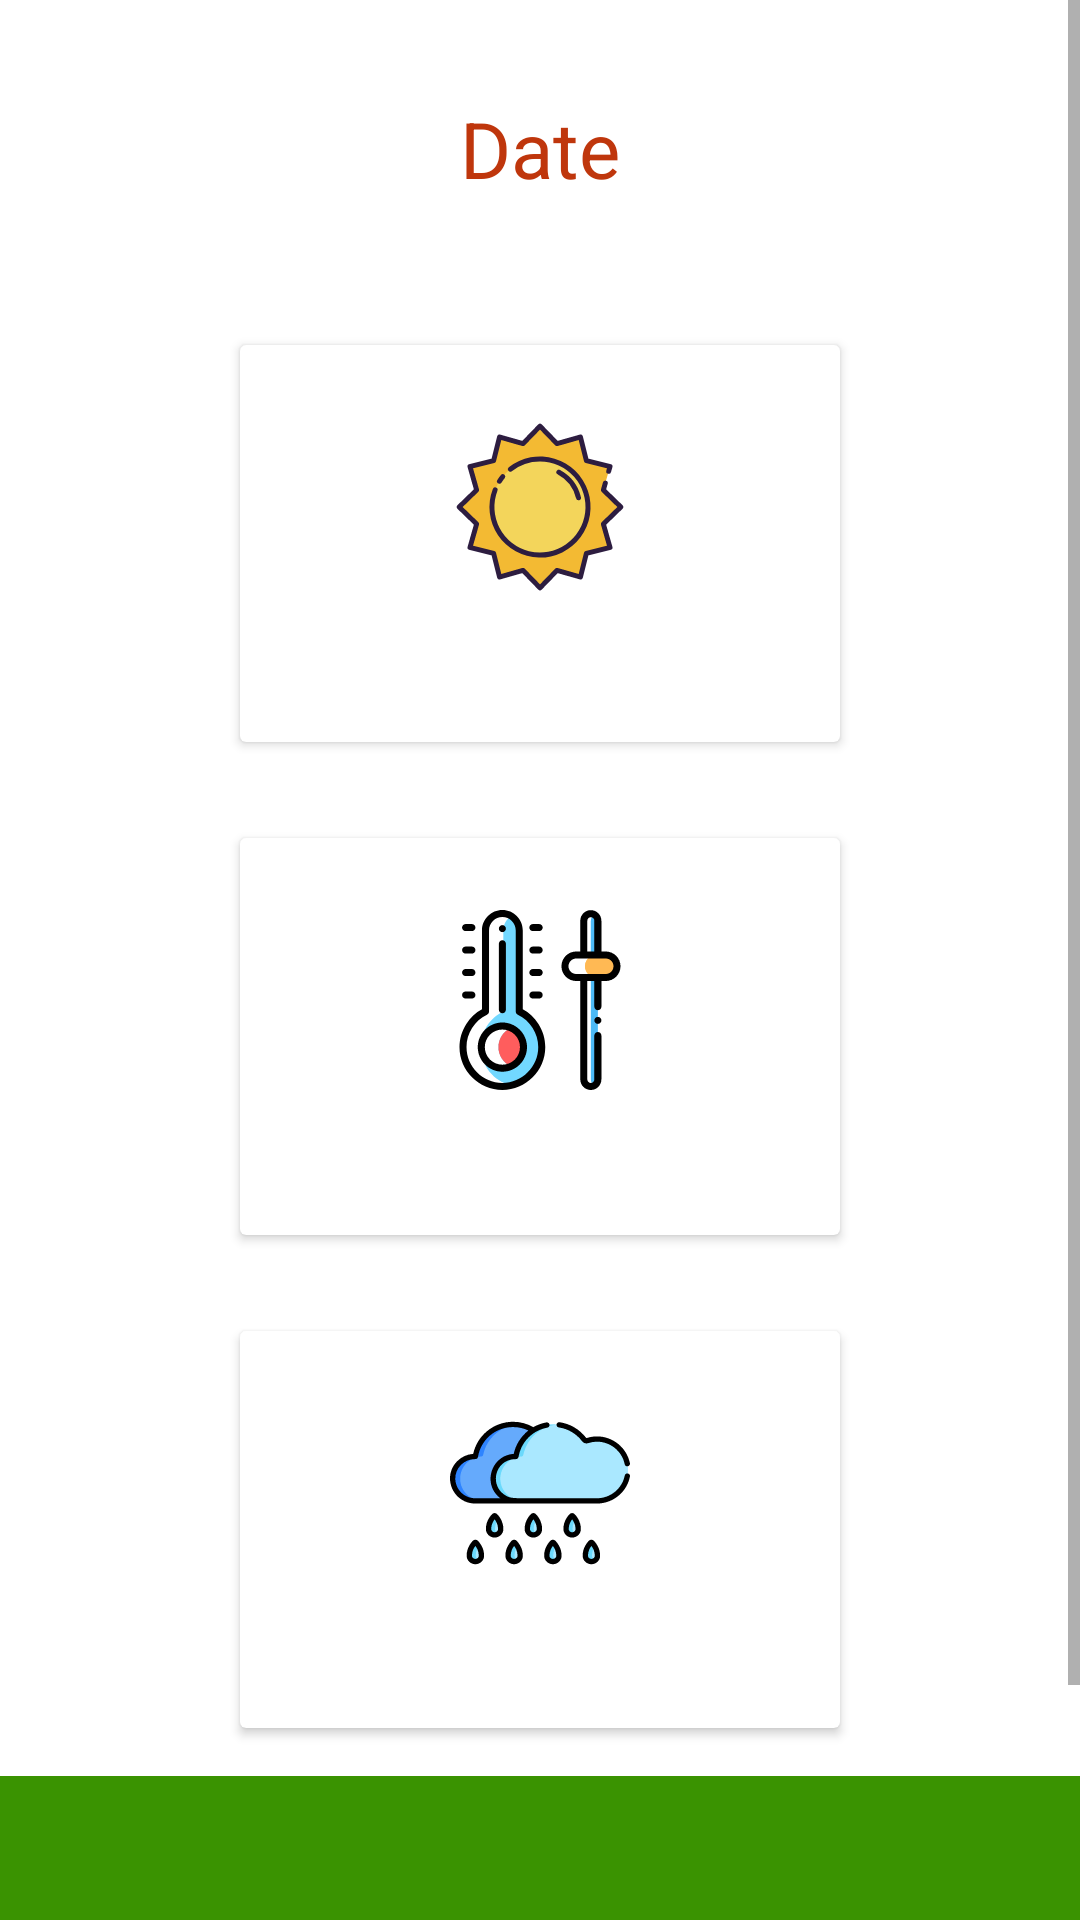

Named icons in this screenshot (1080w x 1920h) and their bounding boxes, (x1,y1,x2,y2):
weatherforecastsun: (456,423,624,591)
